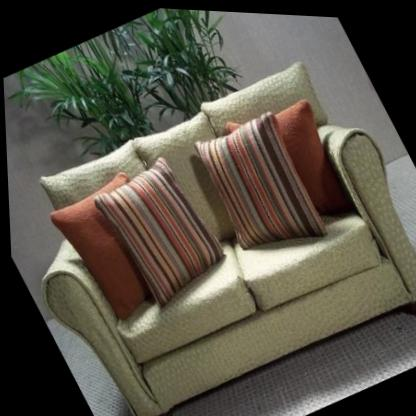Sofa: (1, 24, 416, 416)
